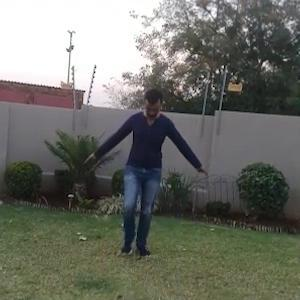land: (86, 83, 211, 270)
